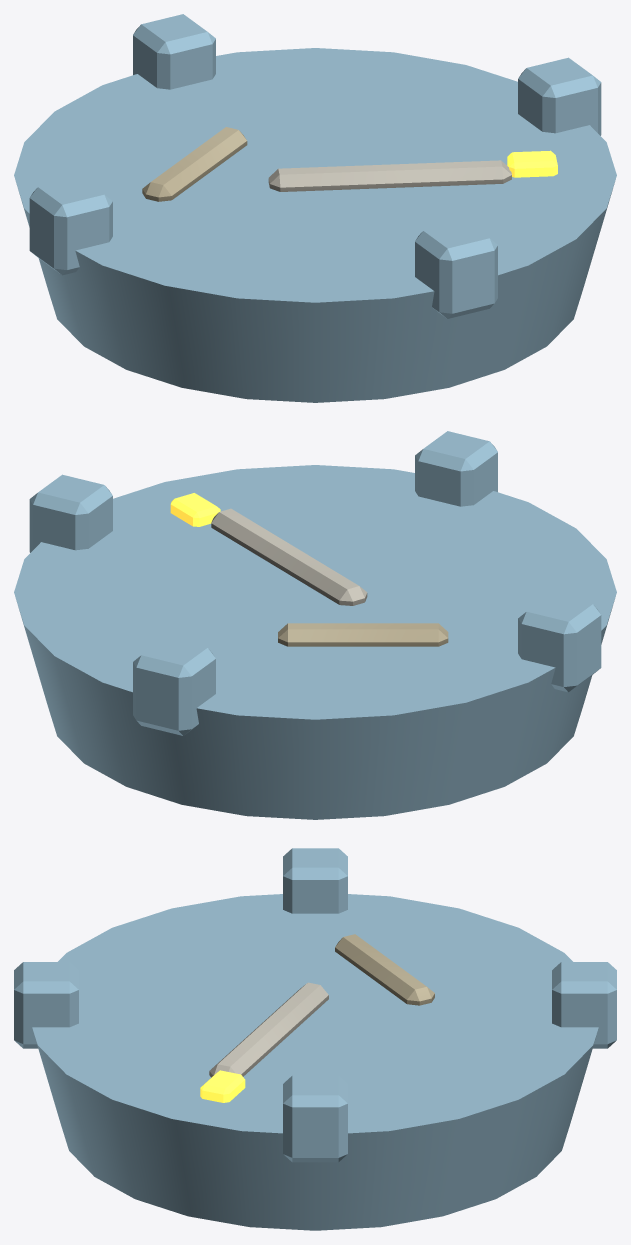
The model's file is ashtray.glb.
3 renders of one model, top to bottom at view 1: azimuth 30°, elevation 25°; view 2: azimuth 150°, elevation 25°; view 3: azimuth 270°, elevation 25°, orthographic. The views are drawn at different scales.
Parts seen in each view (by area): view 1: ashtray; view 2: ashtray; view 3: ashtray.
Boxes of the visible parts, x1,y1,x2,y2 form: ashtray: (14,14,616,402); ashtray: (14,431,616,819); ashtray: (14,848,616,1230).
Size of the model in its own units: 0.13 by 0.036 by 0.13.
5 materials, 3 textured.
